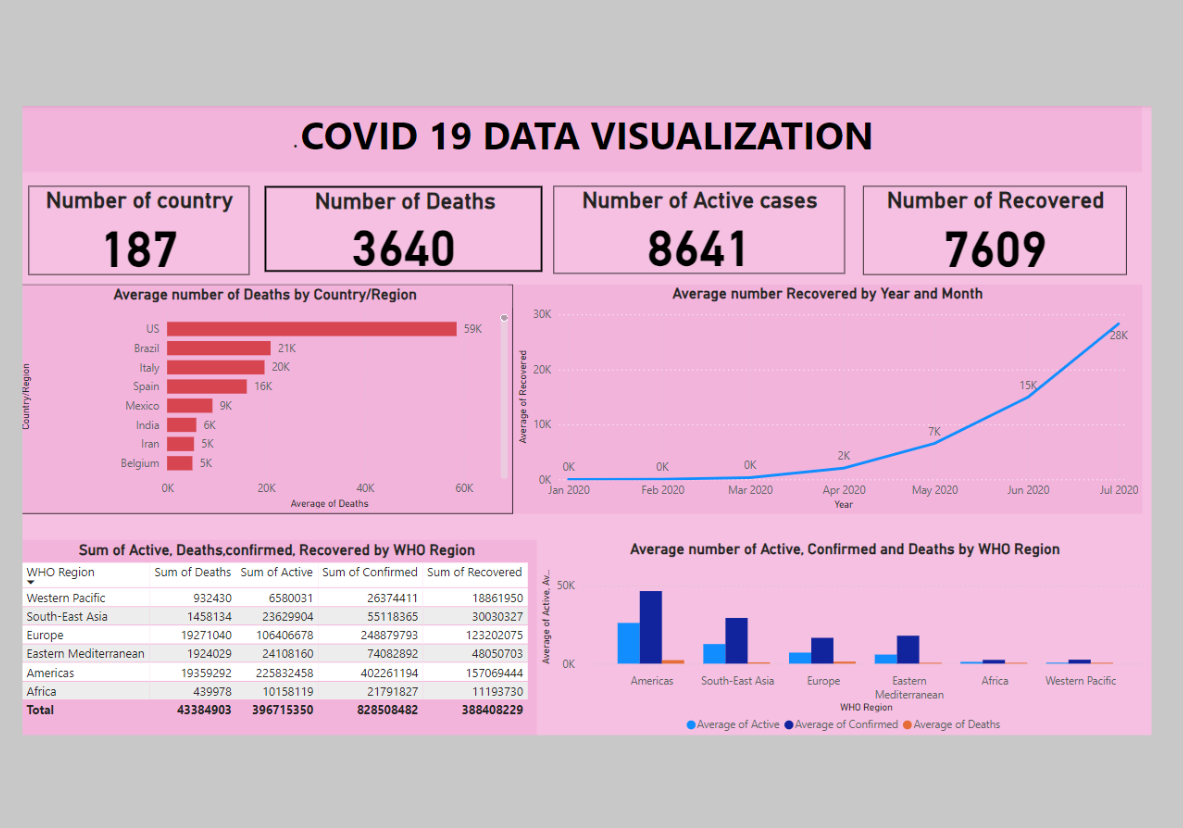

This screenshot's page, from the dashboard's own definition file:
{"tool":"powerbi","page":{"name":"Covid 19 Data visualization","canvas":[1280,720],"ordinal":0},"visuals":[{"type":"card","title":"Number of country","fields":{"Values":["Count(covid_19_clean_complete.Country/Region)"]},"box":[14.1,92.2,248.5,100],"z":0},{"type":"card","title":"Number of Deaths","fields":{"Values":["Count(covid_19_clean_complete.Deaths)"]},"box":[279.8,92.2,312.6,96.9],"z":1000},{"type":"card","title":"Number of  Active cases","fields":{"Values":["Count(covid_19_clean_complete.Active)"]},"box":[604.9,92.2,328.2,98.5],"z":2000},{"type":"card","title":"Number of Recovered ","fields":{"Values":["Count(covid_19_clean_complete.Recovered)"]},"box":[953.4,92.2,297,100],"z":3000},{"type":"barChart","title":"Average number of  Deaths by Country/Region","fields":{"Category":["covid_19_clean_complete.Country/Region"],"Y":["Avg(covid_19_clean_complete.Deaths)"]},"box":[0,203.2,559.5,257.9],"z":4000},{"type":"lineChart","title":"Average number Recovered by Year and Month","fields":{"Y":["Avg(covid_19_clean_complete.Recovered)"],"Category":["covid_19_clean_complete.Date.Variation.Date Hierarchy.Year","covid_19_clean_complete.Date.Variation.Date Hierarchy.Month"]},"box":[559.5,203.2,708,257.9],"z":5000},{"type":"tableEx","title":"Sum of Active, Deaths,confirmed, Recovered by WHO Region","fields":{"Values":["covid_19_clean_complete.WHO Region","Sum(covid_19_clean_complete.Deaths)","Sum(covid_19_clean_complete.Active)","Sum(covid_19_clean_complete.Confirmed)","Sum(covid_19_clean_complete.Recovered)"]},"box":[0,490.8,586.1,229.8],"z":6000},{"type":"clusteredColumnChart","title":"Average number of  Active, Confirmed and  Deaths by WHO Region","fields":{"Y":["Avg(covid_19_clean_complete.Active)","Avg(covid_19_clean_complete.Confirmed)","Avg(covid_19_clean_complete.Deaths)"],"Category":["covid_19_clean_complete.WHO Region"]},"box":[586.1,490.8,694,226.6],"z":7000},{"type":"textbox","box":[0,0,1267.6,76.6],"z":7001}]}

Visuals, with their boxes on the page's 1280x720 design canvas (x1, y1, x2, y2). These are canvas units, not pixel positions in the 1183x828 screenshot, which may show the page scaled, cropped or inside an application window:
"Number of country" card: 14:92:263:192
"Number of Deaths" card: 280:92:592:189
"Number of  Active cases" card: 605:92:933:191
"Number of Recovered " card: 953:92:1250:192
"Average number of  Deaths by Country/Region" barChart: 0:203:560:461
"Average number Recovered by Year and Month" lineChart: 560:203:1268:461
"Sum of Active, Deaths,confirmed, Recovered by WHO Region" tableEx: 0:491:586:721
"Average number of  Active, Confirmed and  Deaths by WHO Region" clusteredColumnChart: 586:491:1280:717
textbox: 0:0:1268:77
